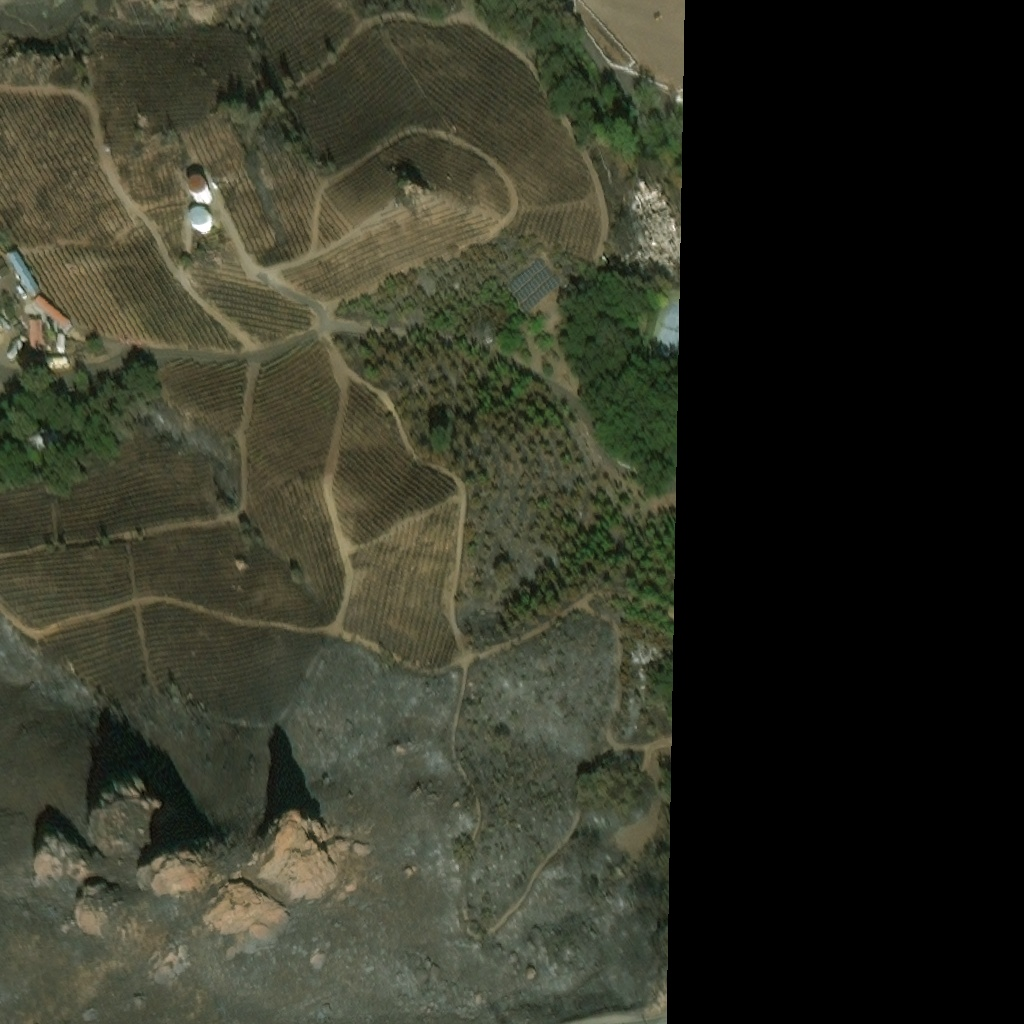0 no-damage: (8, 253, 43, 298), (34, 297, 70, 329), (189, 182, 213, 206), (188, 210, 212, 234), (28, 427, 62, 443), (29, 320, 44, 351), (1, 335, 18, 356), (21, 357, 41, 366), (47, 356, 67, 365), (56, 334, 63, 350)
4 un-classified: (17, 0, 36, 9)
